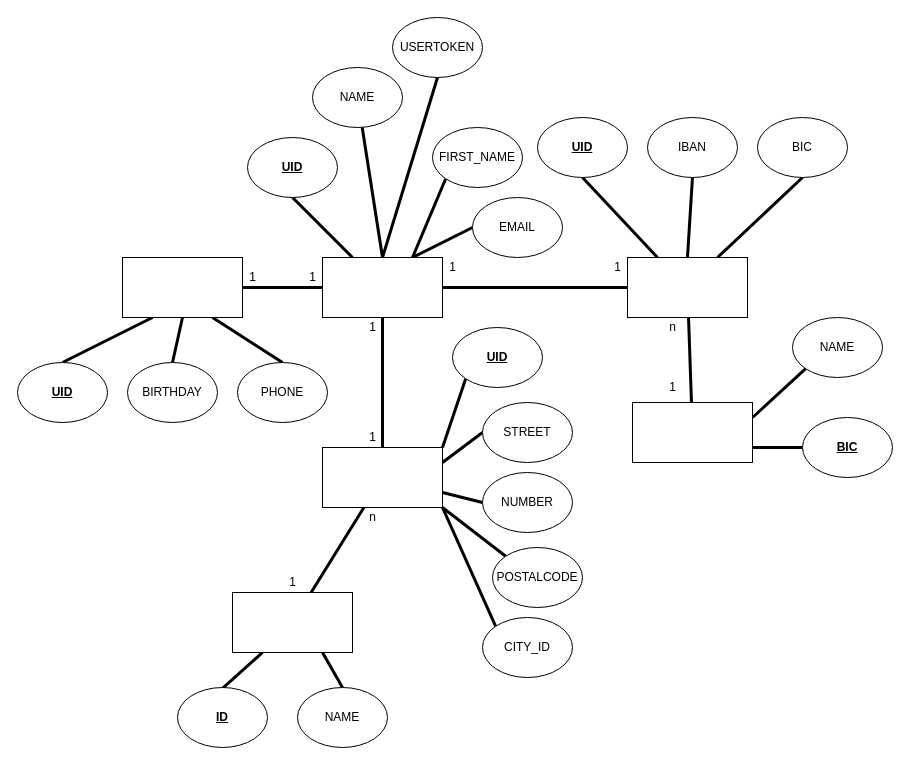
Some shapes in this 910 by 765 pixel diagram are drawn without their labels. Each missing label, with the centre of its shape:
ADDRESS: pixel 382 477
BANK: pixel 692 432
BANKDATA: pixel 687 287
CITY: pixel 292 622
PRIVAT_DATA: pixel 182 287
USER: pixel 382 287
